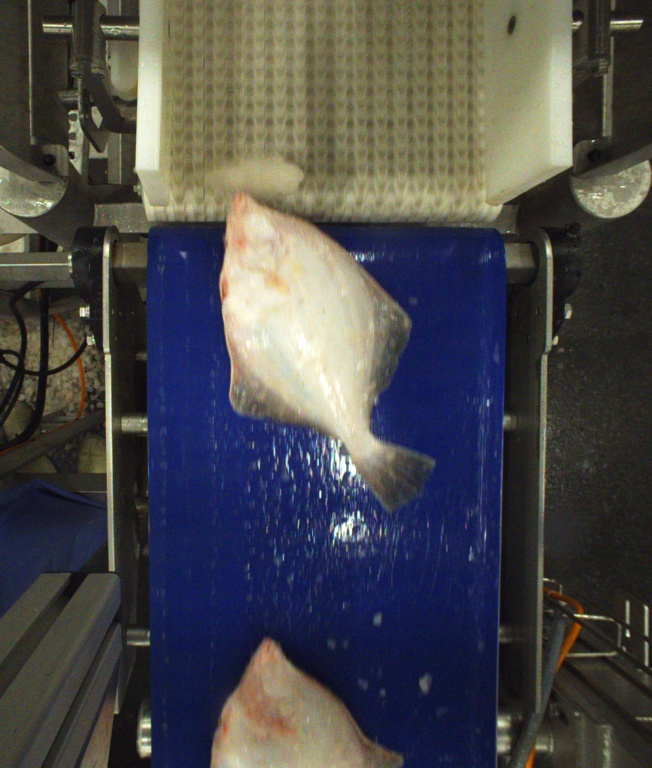PLE: (220, 193, 437, 514)
